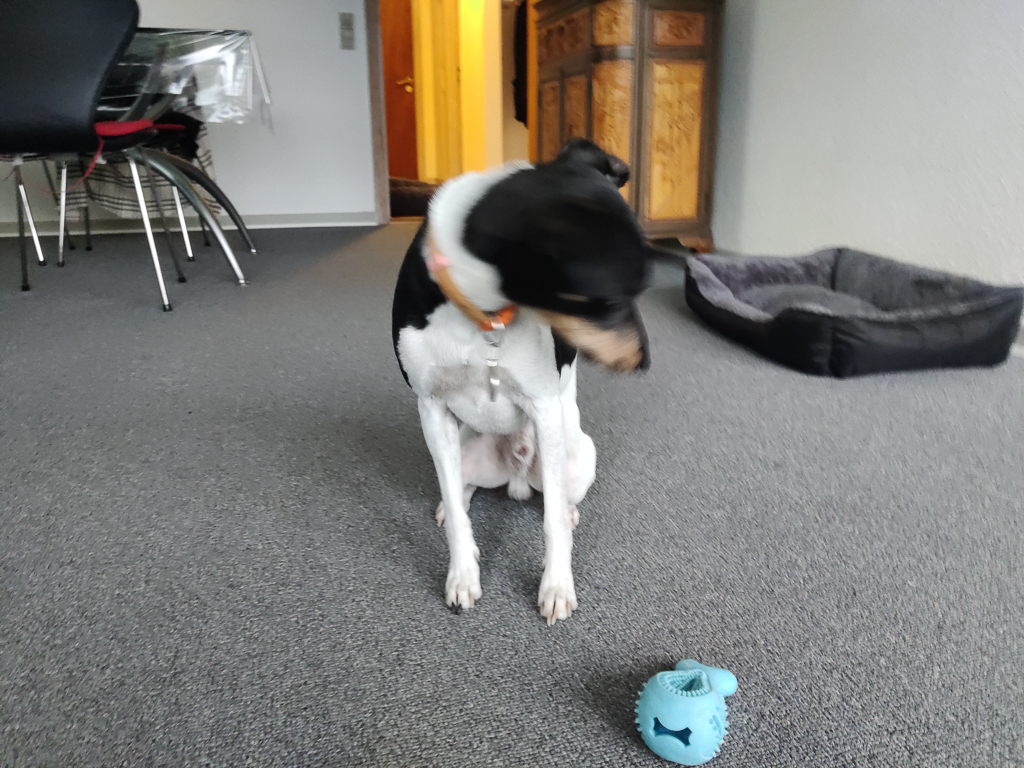Dog: (364, 129, 673, 645)
